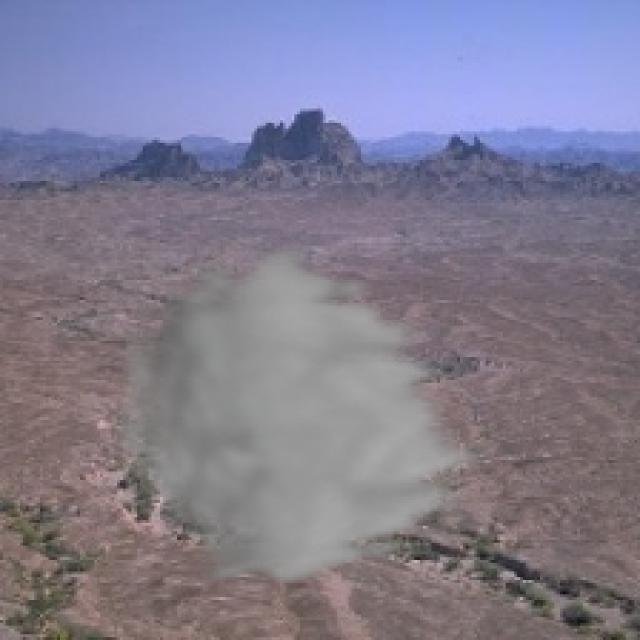smoke: (109, 240, 494, 589)
